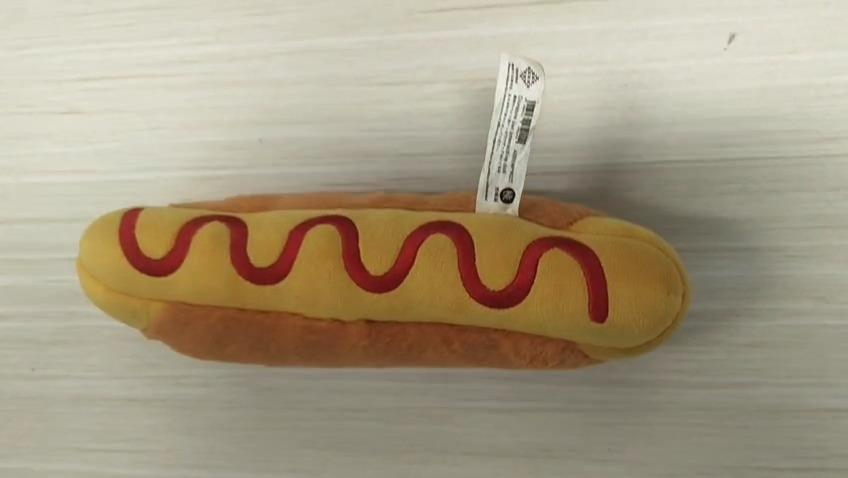hotdog: (75, 187, 691, 370)
